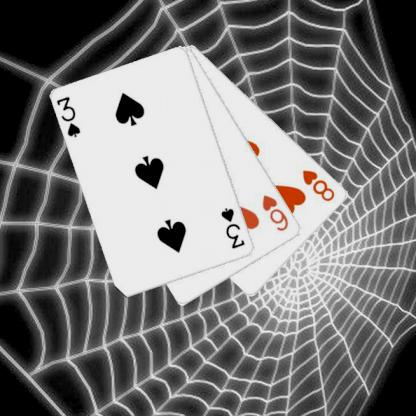3S: (218, 206, 247, 250), (54, 94, 82, 138)
6H: (260, 192, 290, 233)
8H: (300, 167, 336, 203)
